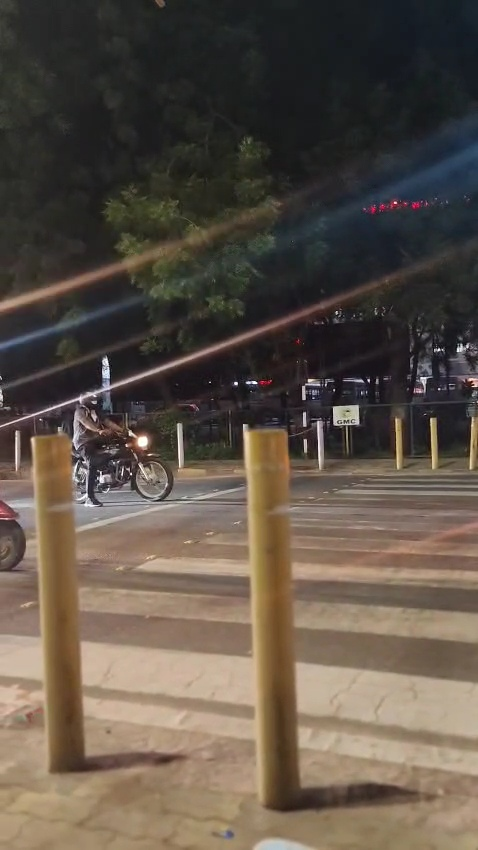BikeWithRider: (60, 386, 180, 510)
Helmet: (78, 388, 103, 415)
